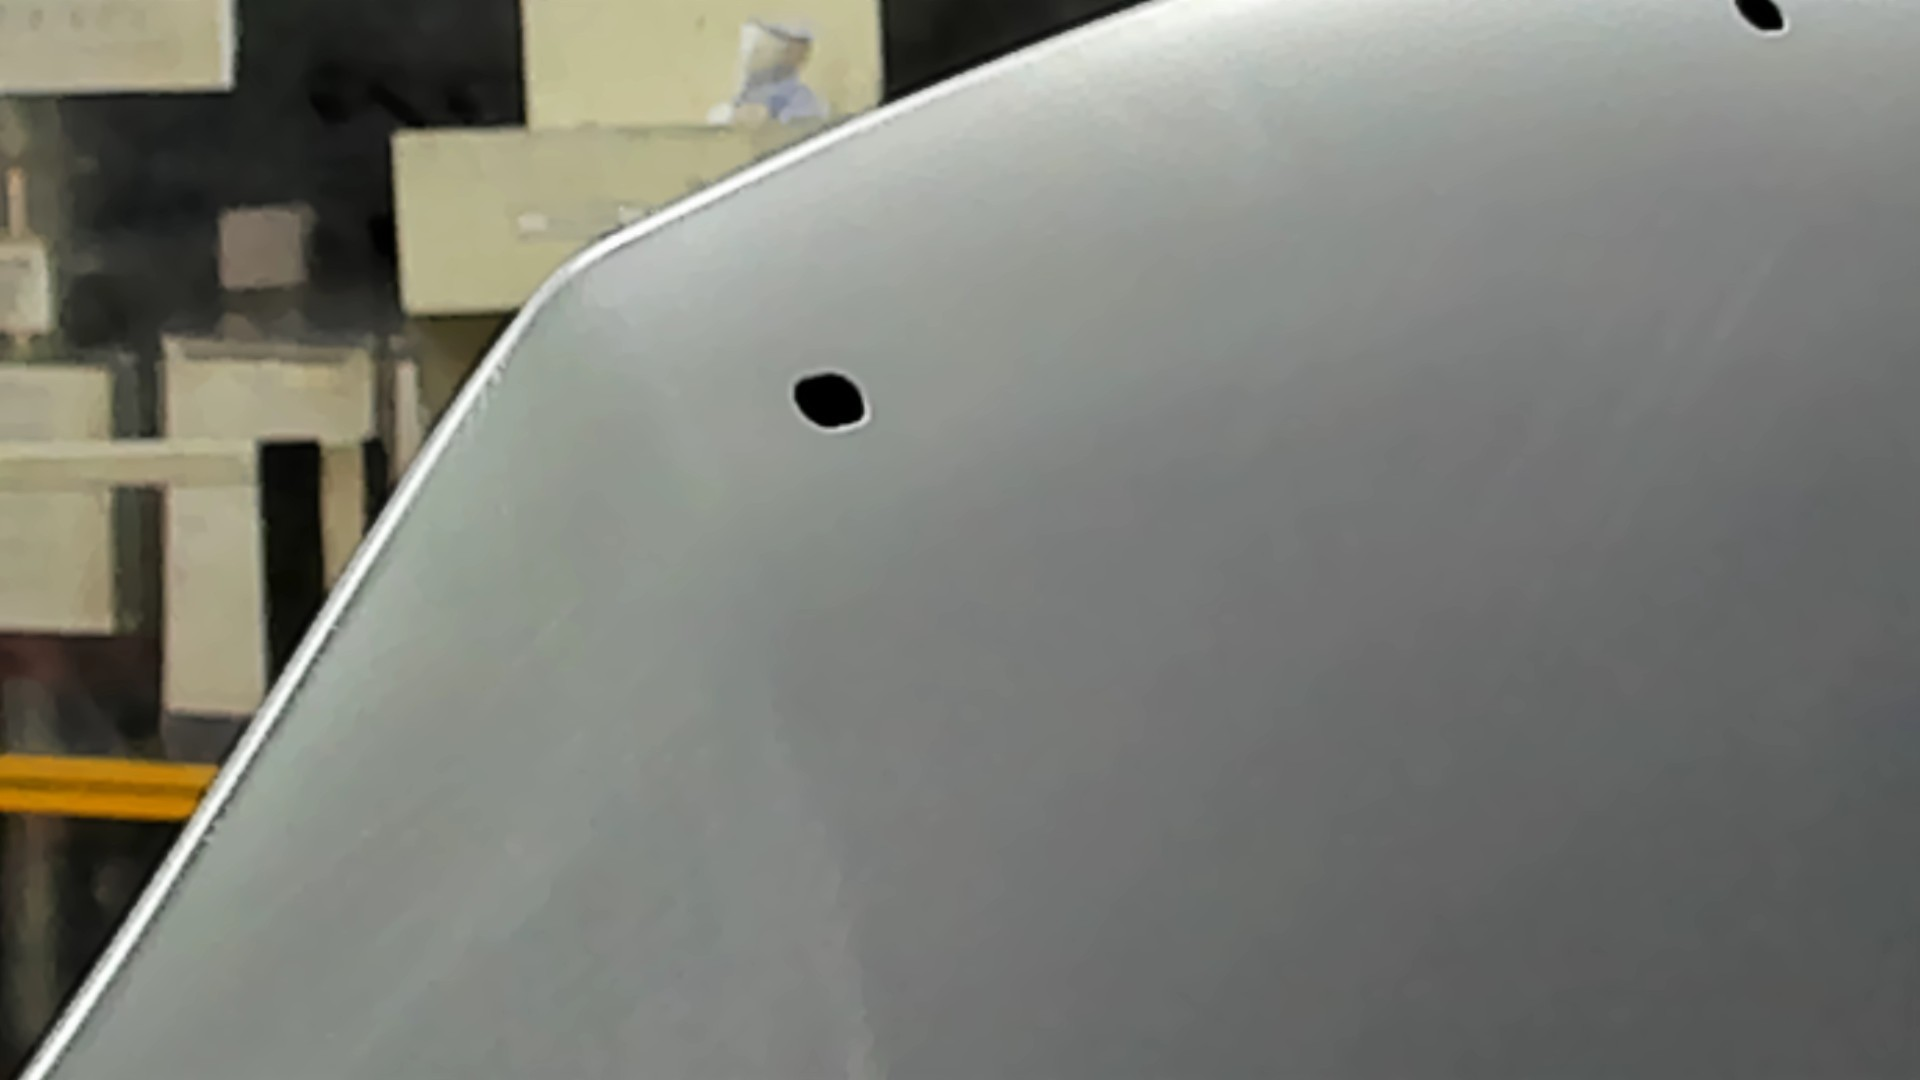amorfo: (785, 364, 880, 438), (1729, 1, 1793, 40)
